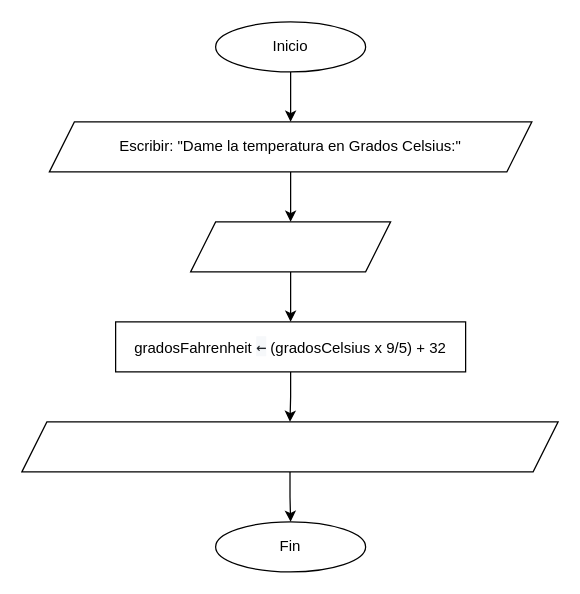
Some shapes in this 580 by 594 pixel diagram are drawn without their labels. The shapes that lost their labels are listed below. From the top down, each one's box as (x1, y1, x2, y2) in pixels, then its label:
(189, 221, 391, 272): Leer gradosCelsius
(21, 421, 558, 472): Escribir: "La temperatura en Grados Fahrenheit es:", gradosFahrenheit
